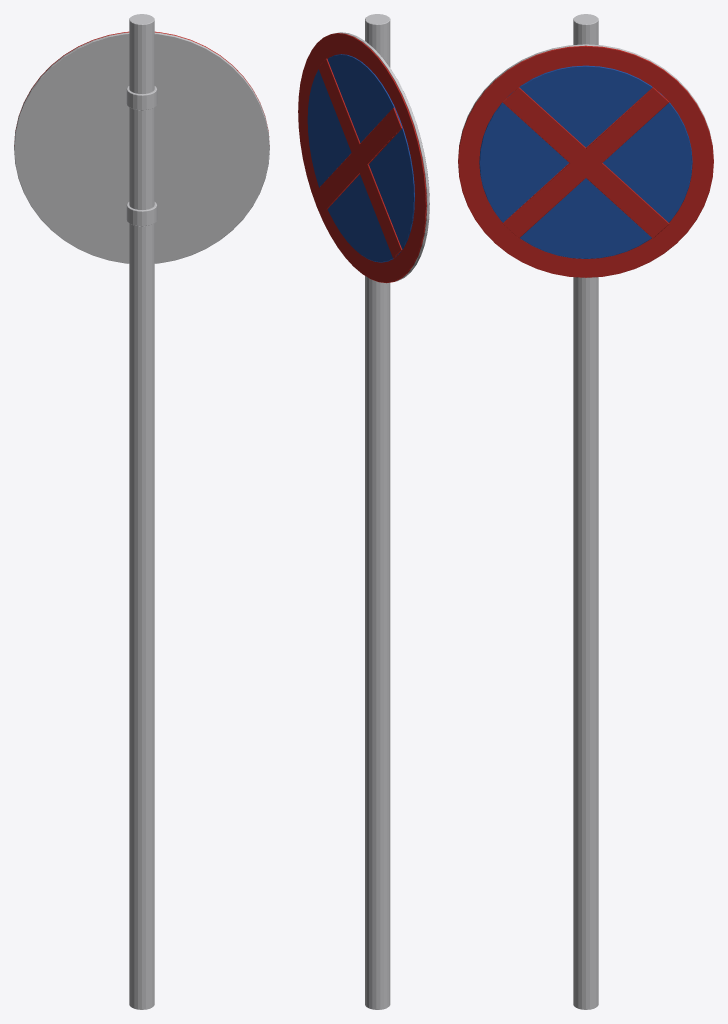
Rendered from SM_VB_Sign_NoStopping.fbx.
The picture shows the model from 3 angles, left to right: view 1: azimuth 90°, elevation 25°; view 2: azimuth 210°, elevation 25°; view 3: azimuth 270°, elevation 25°; orthographic projection.
Parts seen in each view (by area): view 1: SM_VB_Sign_NoStopping; view 2: SM_VB_Sign_NoStopping; view 3: SM_VB_Sign_NoStopping.
Boxes of the visible parts, x1,y1,x2,y2 form: SM_VB_Sign_NoStopping: [14, 14, 269, 1009]; SM_VB_Sign_NoStopping: [298, 14, 429, 1009]; SM_VB_Sign_NoStopping: [458, 14, 713, 1009].
Size of what is drawn, in the model's own units: 0.085 by 2.55 by 0.6.
